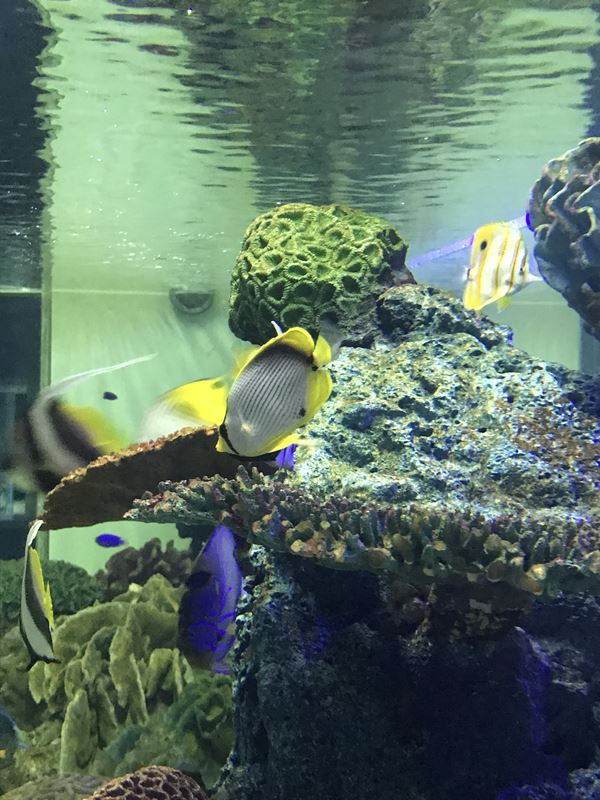Black-backed butterflyfish: (209, 312, 356, 462)
